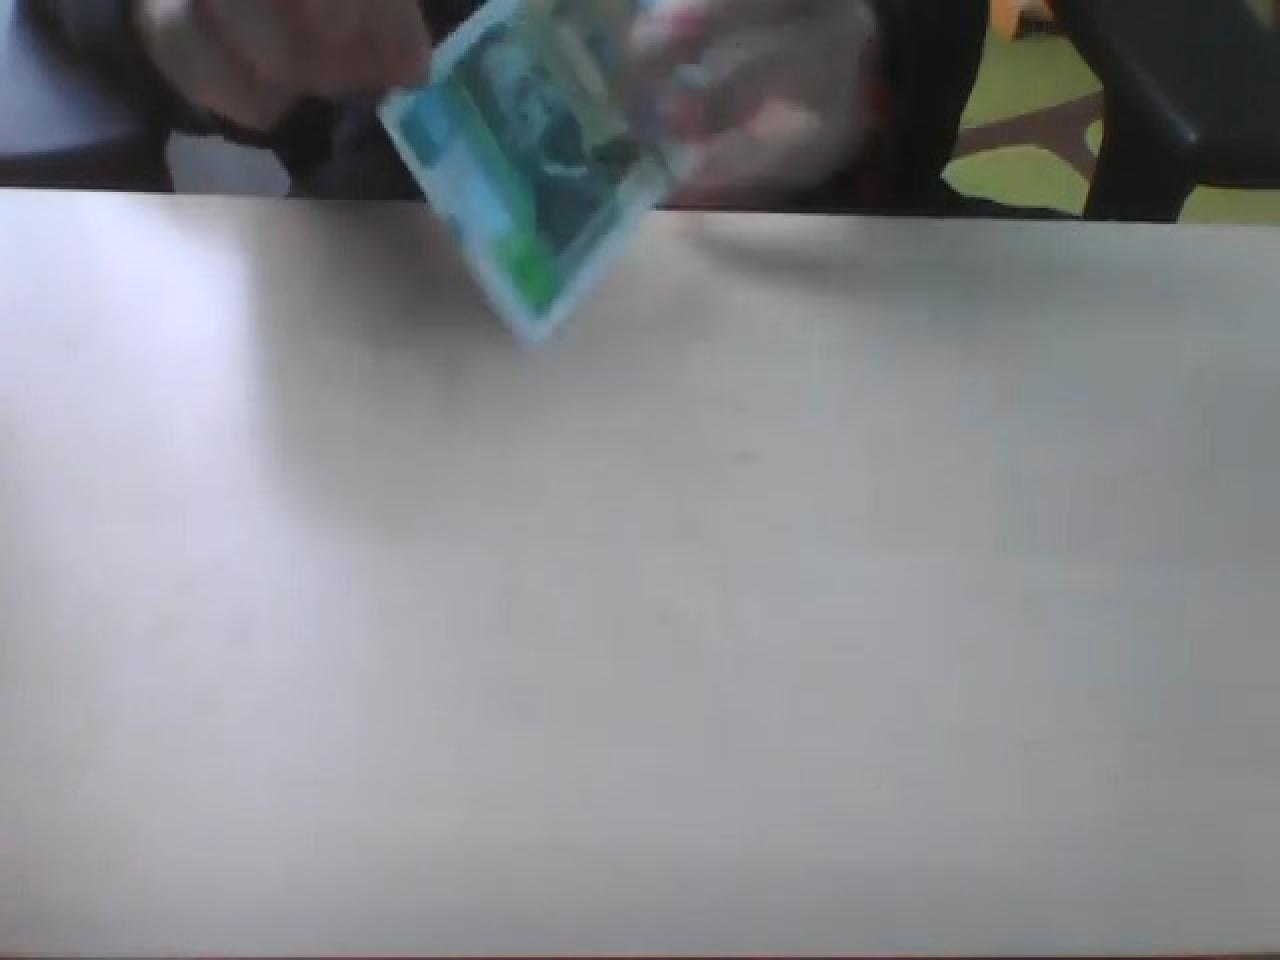100leva: (374, 0, 690, 344)
